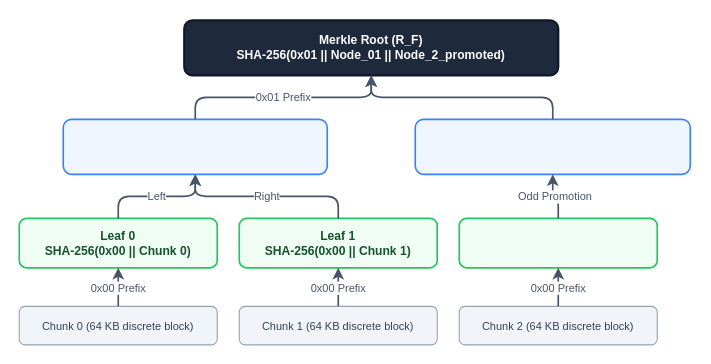
Some shapes in this 711 by 364 pixel diagram are drawn without their labels. The shapes that lost their labels are listed below. From the top down, each one's box as (x1, y1, x2, y2) in pixels, then its label:
(62, 118, 328, 175): Interior Node 0-1 SHA-256(0x01 || Leaf_0 || Leaf_1)
(414, 118, 691, 175): Directly Promoted Odd Node Leaf 2 (No Duplication - CVE-2012-2459 Fix)
(458, 217, 658, 268): Leaf 2 (Odd Leaf) SHA-256(0x00 || Chunk 2)
